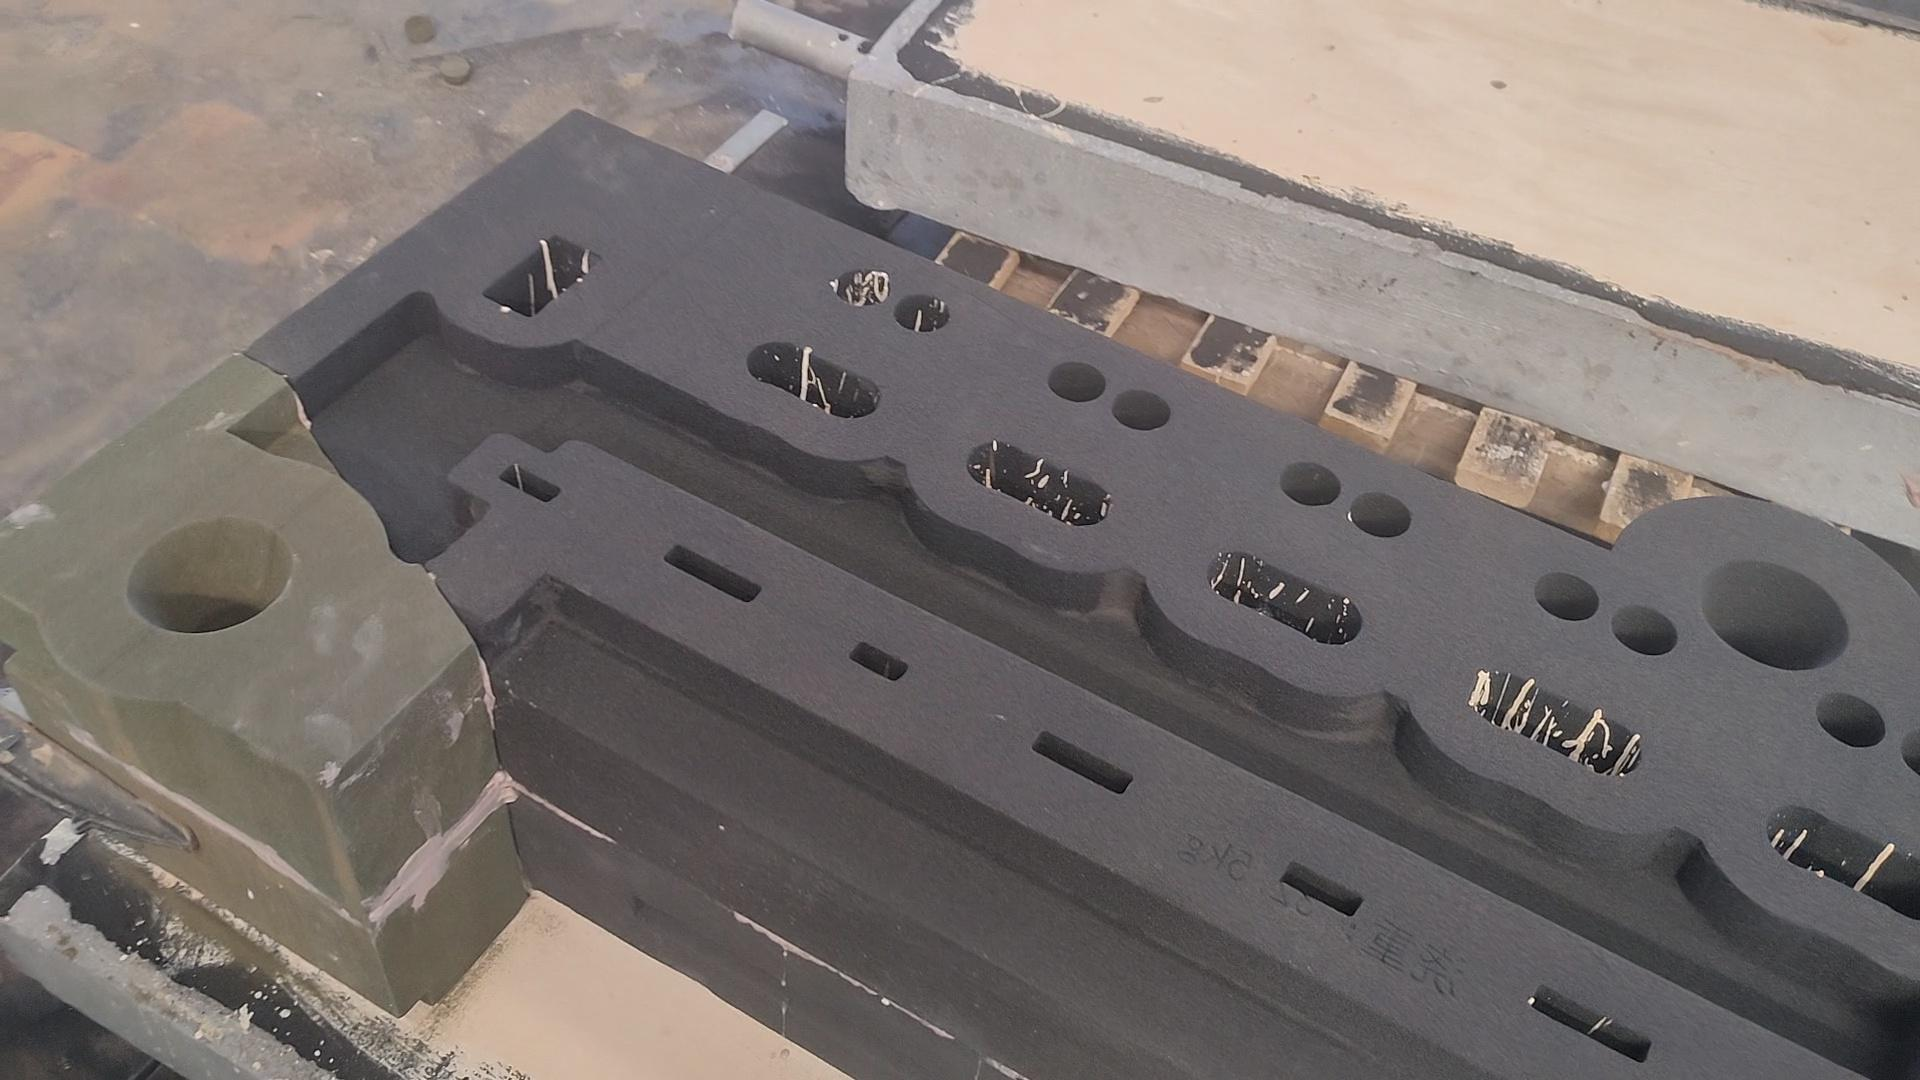pouring hole: (127, 514, 294, 637), (1702, 560, 1851, 669)
